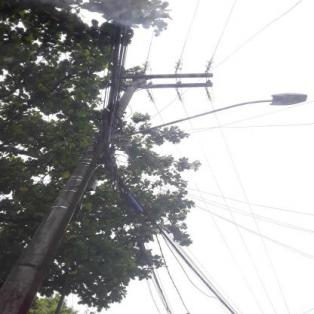Poste: (0, 69, 152, 313)
